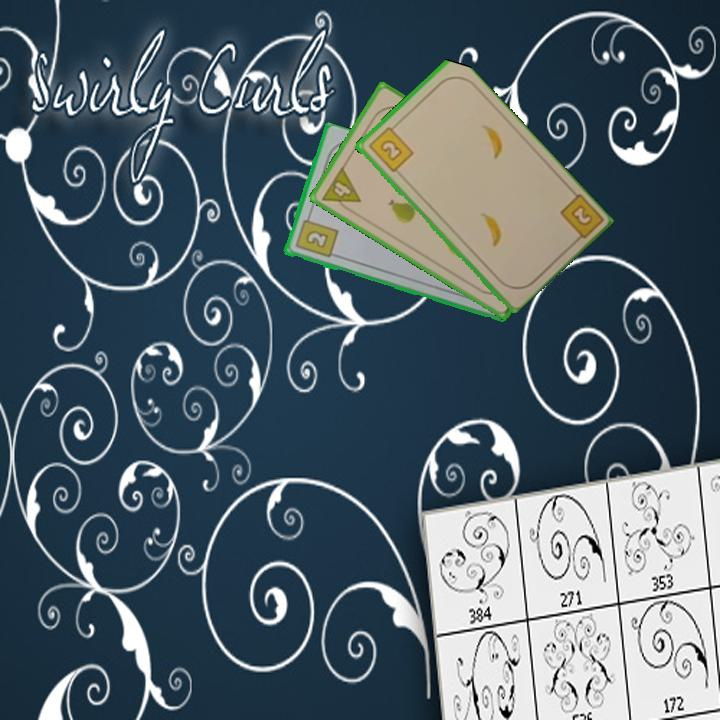2b: (365, 120, 416, 175), (556, 190, 604, 248), (292, 211, 340, 261)
4p: (318, 163, 364, 217)
